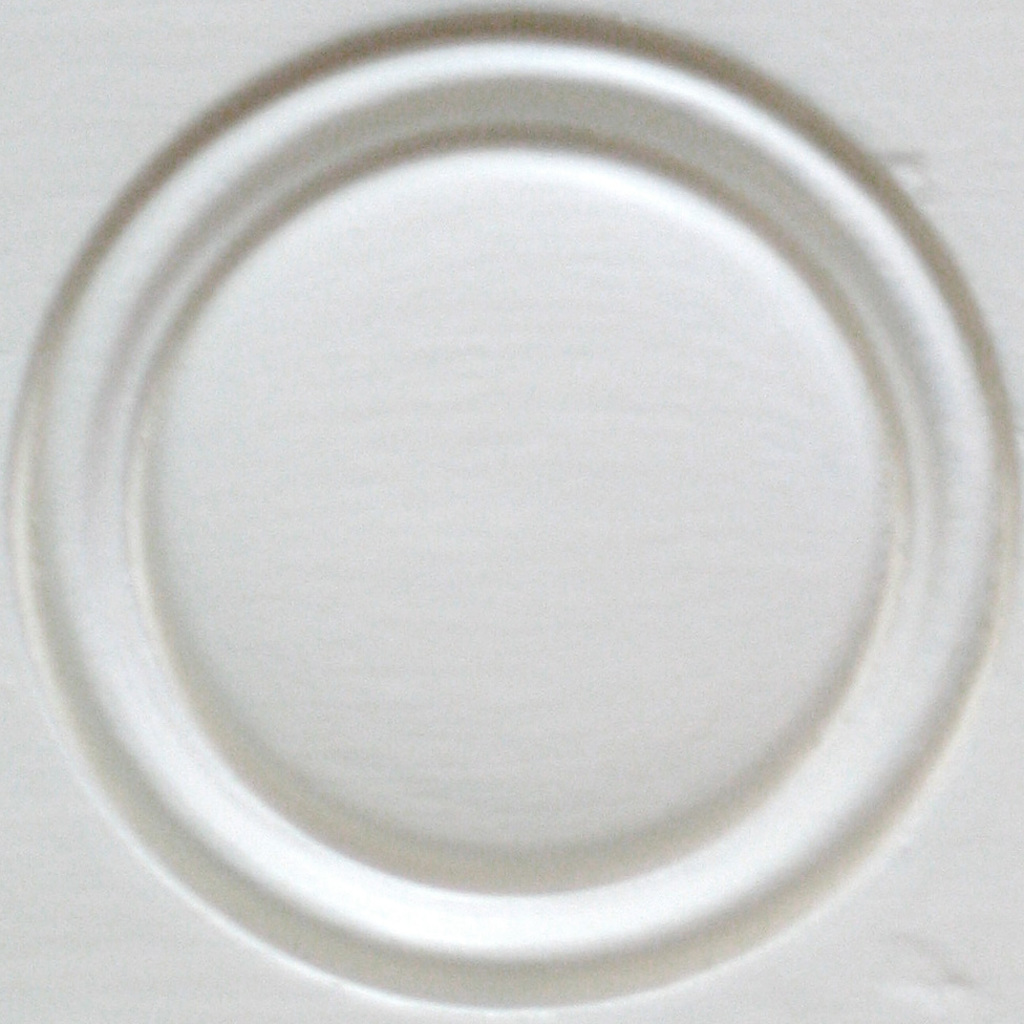plate: (3, 11, 1019, 1011)
